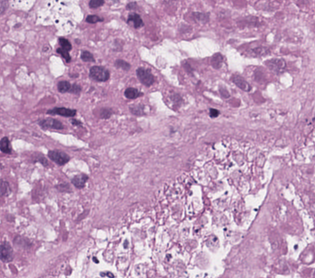nucleus: (231, 74, 250, 91), (89, 65, 109, 81), (136, 68, 154, 85), (48, 150, 69, 164), (38, 118, 63, 129), (47, 107, 75, 116), (127, 13, 143, 28), (266, 59, 285, 71), (71, 174, 87, 188), (56, 47, 70, 62), (124, 87, 141, 98), (94, 108, 111, 118), (59, 37, 71, 51), (211, 53, 222, 68), (115, 59, 130, 70), (57, 81, 71, 92), (86, 14, 102, 23), (80, 51, 93, 61), (130, 104, 143, 114), (89, 0, 104, 8), (69, 84, 81, 93), (209, 109, 218, 117), (71, 119, 80, 124)
